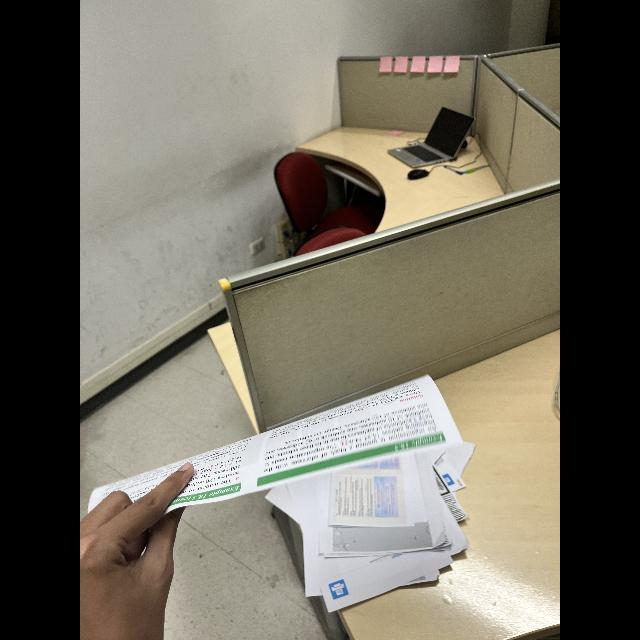reuseable_paper: (84, 372, 462, 530), (274, 410, 482, 616)
